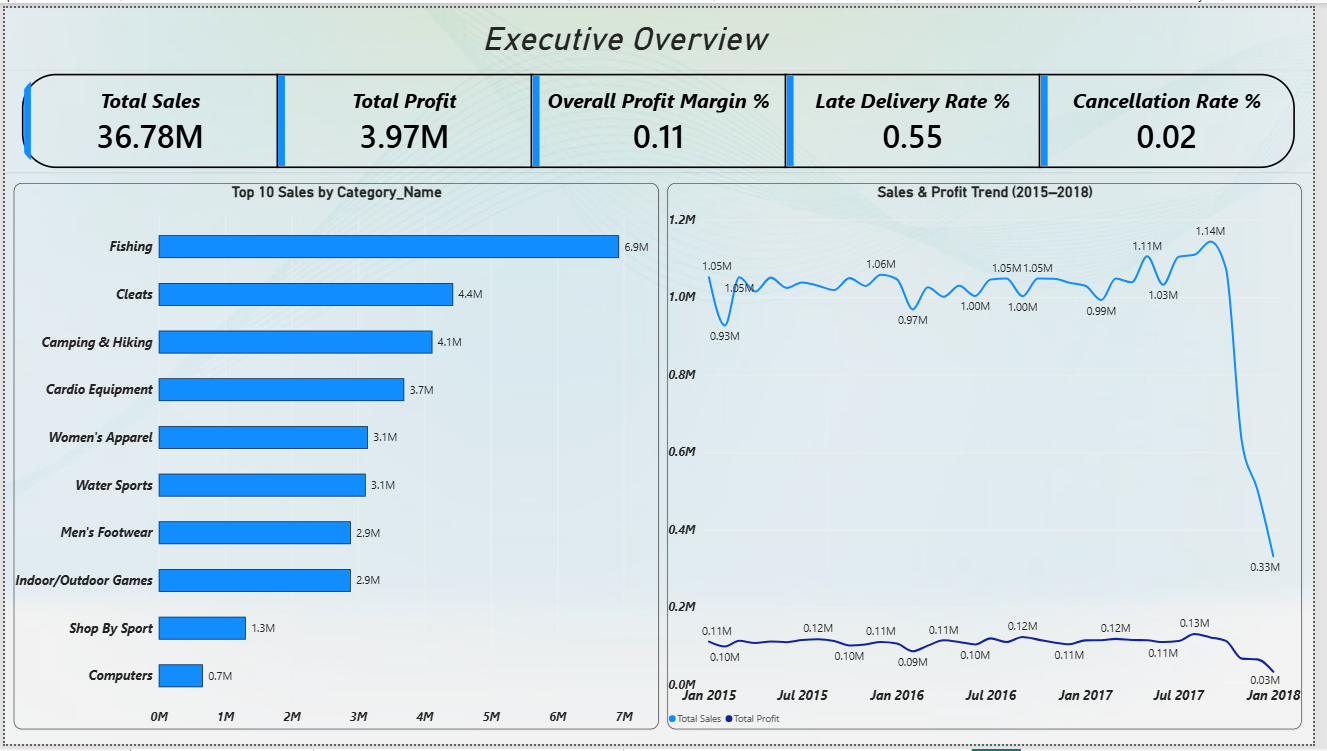

The dashboard page shown, as its layout file describes it:
{"tool":"powerbi","page":{"name":"Executive Overview","canvas":[1920,1080],"ordinal":0},"visuals":[{"type":"cardVisual","fields":{"Data":["Table.Total Sales","Table.Total Profit","Table.Overall Profit Margin %","Table.Late Delivery Rate %","Table.Cancellation Rate %"]},"box":[0,91.7,1920.5,148.6],"z":0},{"type":"clusteredBarChart","title":"Top 10 Sales by Category_Name","fields":{"Category":["supply_chain dim_products.Category_Name"],"Y":["Table.Total Sales"]},"box":[12.7,257,946.5,801.7],"z":1000},{"type":"lineChart","title":"Sales & Profit Trend (2015–2018)","fields":{"Y":["Table.Total Sales","Table.Total Profit"],"Category":["supply_chain dim_date.Date.Variation.Date Hierarchy.Year","supply_chain dim_date.Date.Variation.Date Hierarchy.Month"]},"box":[971.8,257,930.2,801.7],"z":2000},{"type":"textbox","box":[700,16.7,490.7,63],"z":3000}]}

Visuals, with their boxes in screenshot pixels (x1, y1, x2, y2), scaled from the page's 1920x1080 canvas onto the 1327x751 screenshot:
cardVisual - Table.Total Sales x Table.Total Profit: region(0, 64, 1326, 167)
"Top 10 Sales by Category_Name" clusteredBarChart: region(9, 179, 663, 736)
"Sales & Profit Trend (2015–2018)" lineChart: region(672, 179, 1315, 736)
textbox: region(484, 12, 823, 55)
